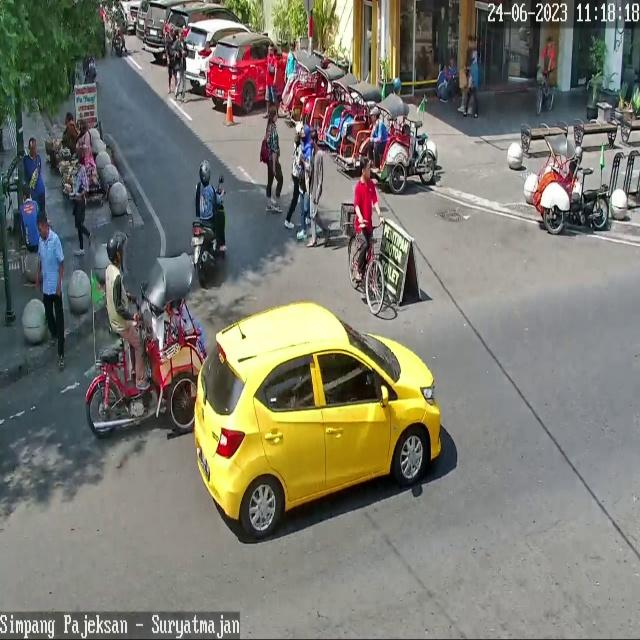bus: (191, 185, 226, 282)
motorcycle: (193, 302, 441, 537), (206, 33, 300, 111), (163, 4, 246, 64), (181, 21, 252, 87), (143, 0, 169, 53)
